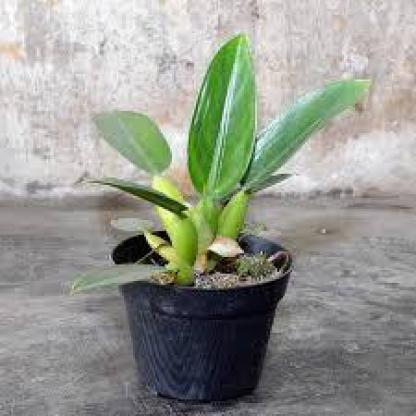Melati: (226, 172, 367, 322), (63, 122, 176, 213), (201, 26, 271, 113)
